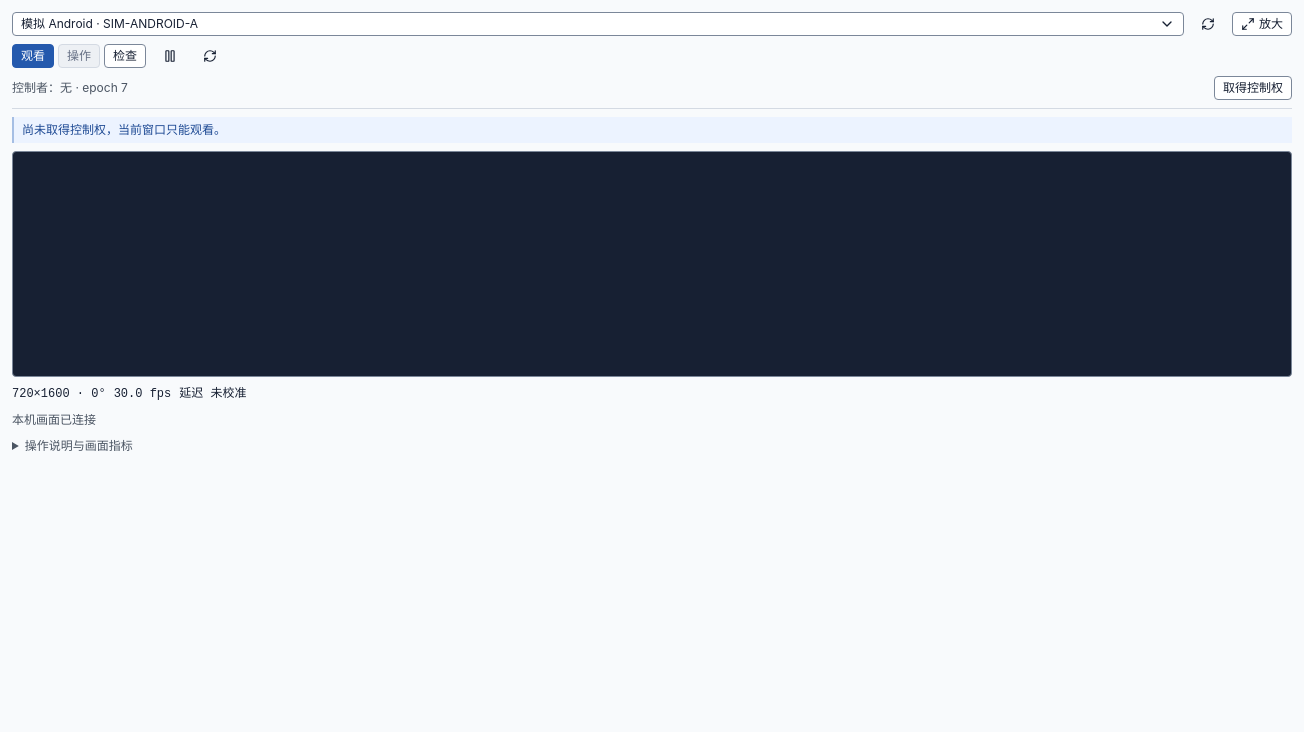
Test: acquiring control explains the next step and still requires explicit operation mode
Check: the text "本机画面已连接" is shown, box x1=12 y1=412 x2=96 y2=427
Click the button "取得控制权".
click(1253, 88)  # box x1=1214 y1=76 x2=1292 y2=100
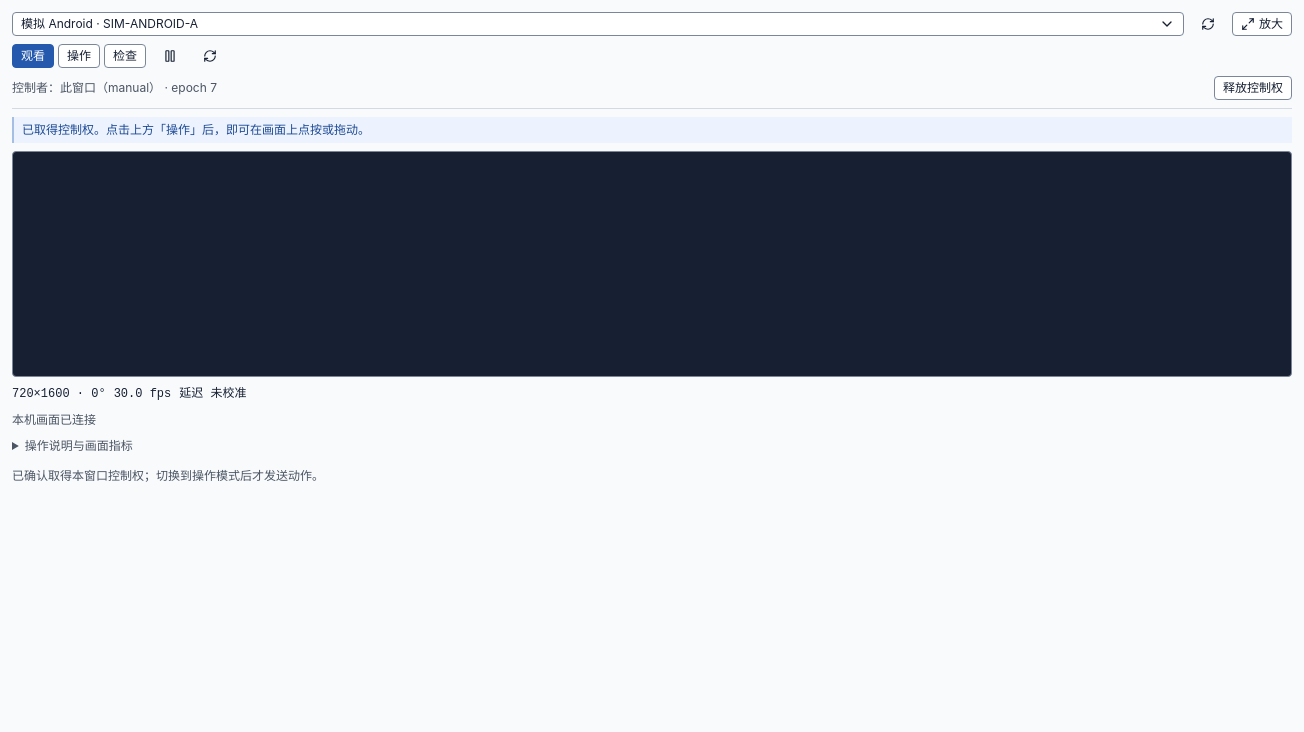
Check: the text "已取得控制权。点击上方「操作」后，即可在画面上点按或拖动。" is shown, box x1=12 y1=117 x2=1292 y2=143
Press the mouse on the element named "设备画面交互区" at (652, 264), box x1=12 y1=151 x2=1292 y2=377
Click the button "操作".
click(79, 56)  # box x1=58 y1=44 x2=100 y2=68
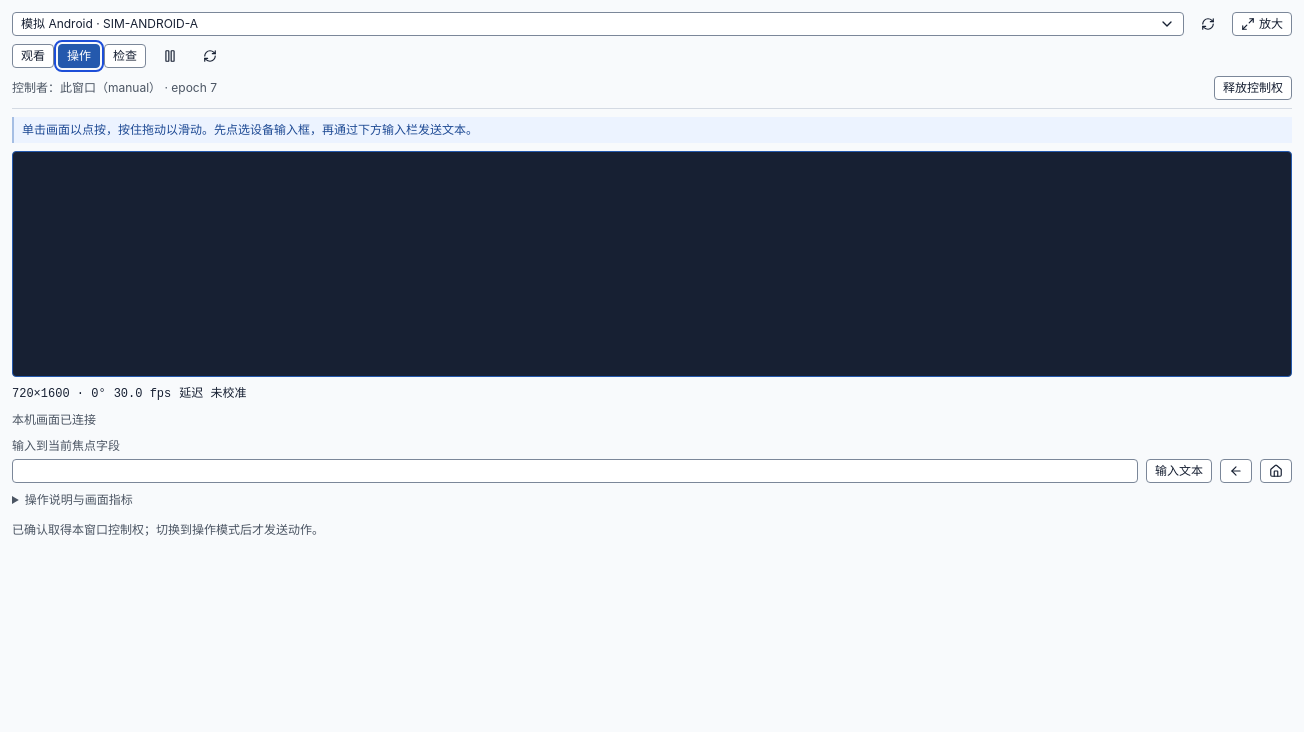
Check: the text "单击画面以点按，按住拖动以滑动。先点选设备输入框，再通过下方输入栏发送文本。" is shown, box x1=12 y1=117 x2=1292 y2=143
Check: the field labelled "输入到当前焦点字段" is enabled, box x1=12 y1=459 x2=1138 y2=483
Check: the button named "设备返回" is enabled, box x1=1220 y1=459 x2=1252 y2=483
